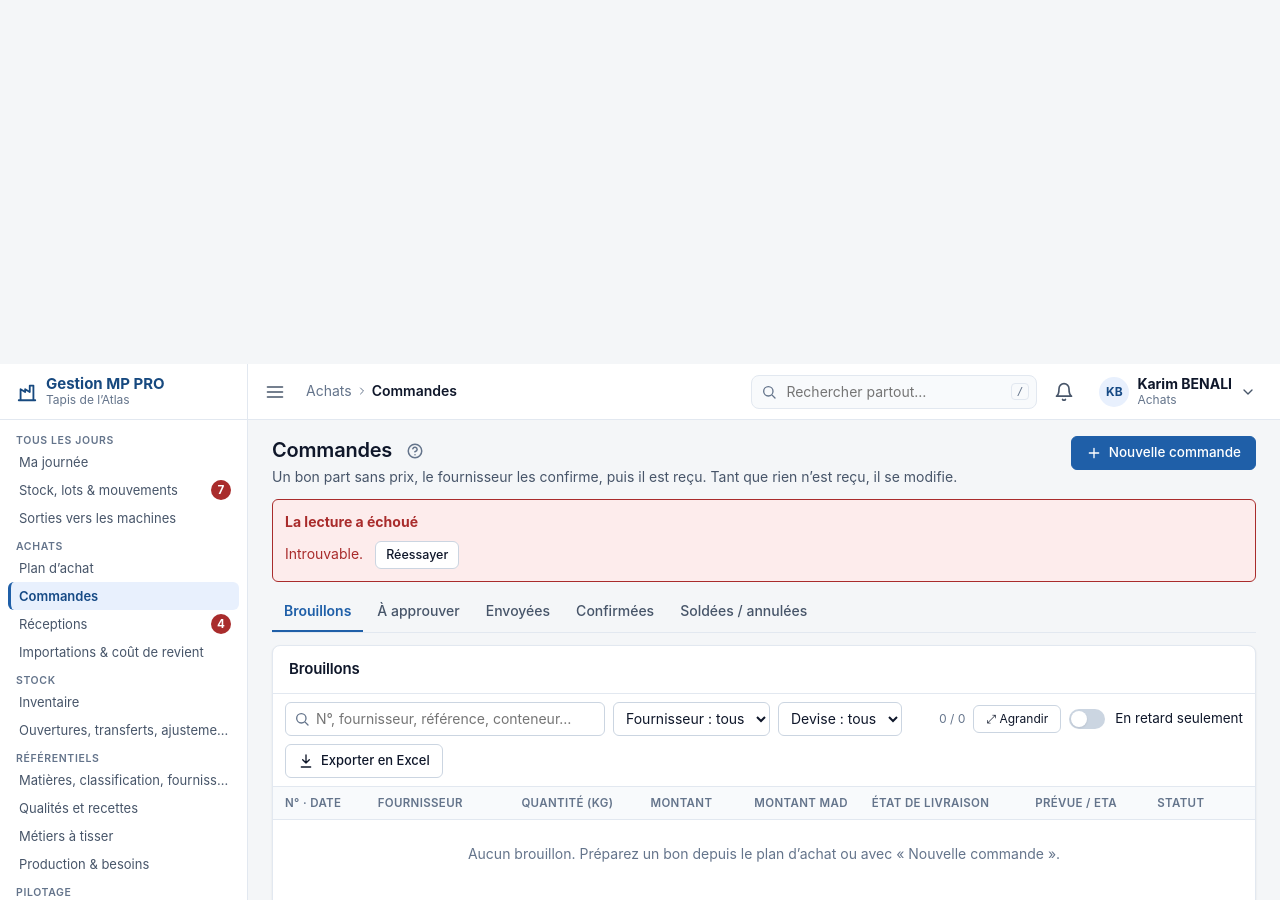
Test case: Coque › le « ? » ouvre l’aide de l’écran courant
(page scrolled)
Click the button named "Aide de l’écran".
click(414, 450)  # box [400, 436, 428, 464]
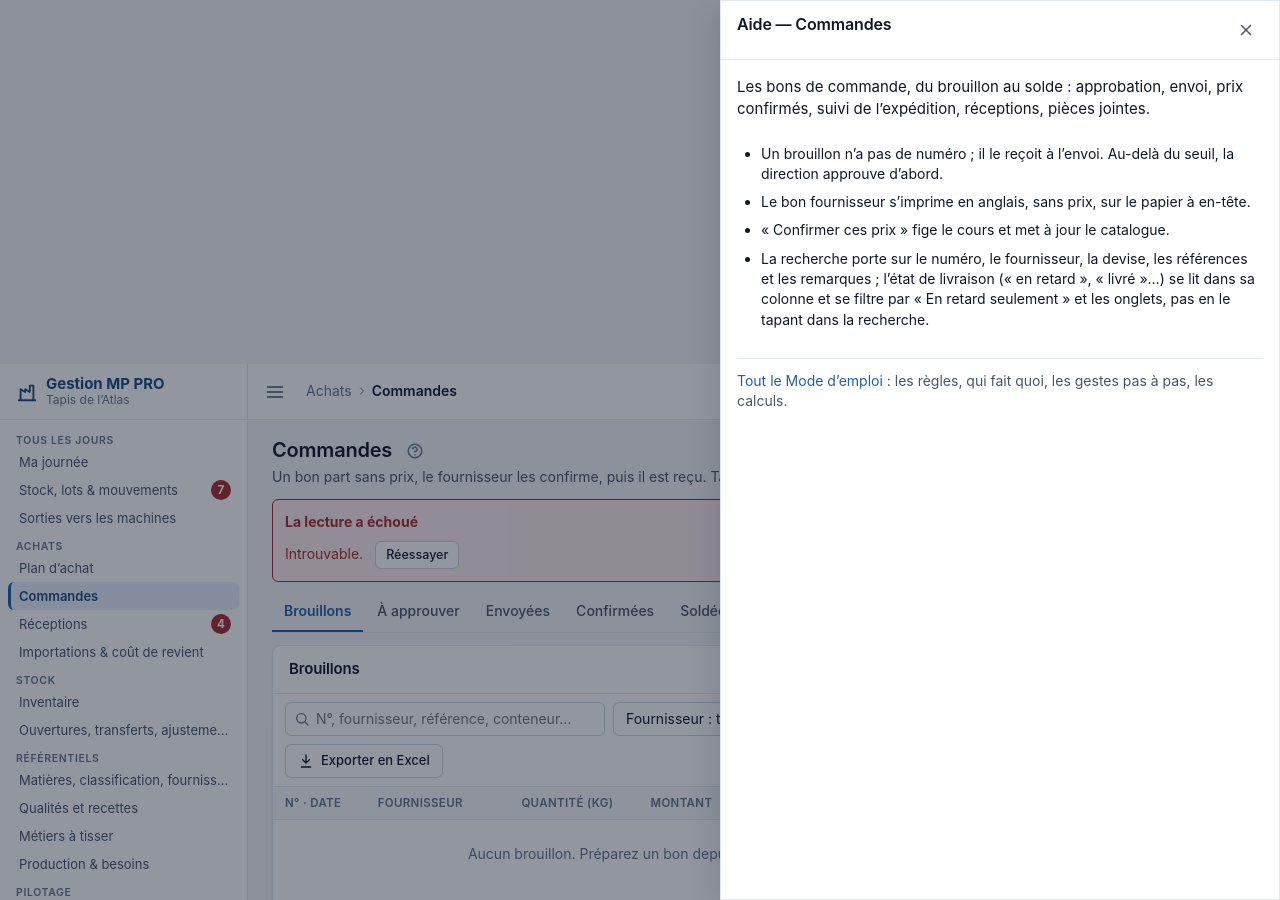
Expected: the dialog "Aide — Commandes" is shown, [720, 0, 1279, 899]
